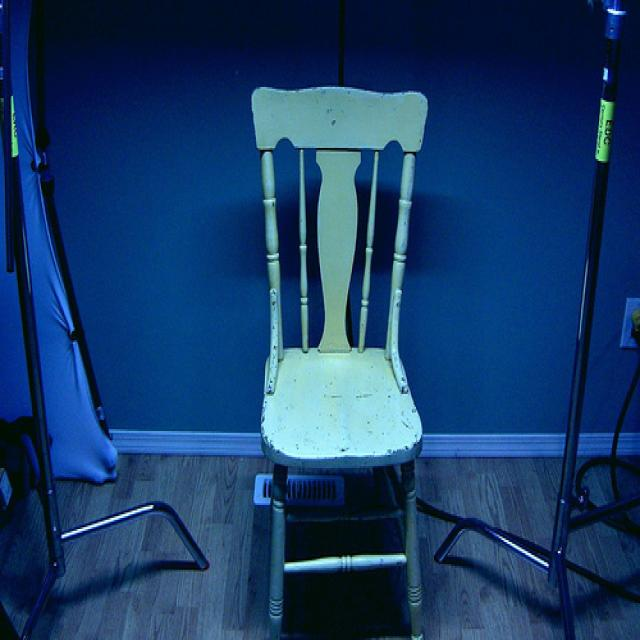chair: (252, 83, 425, 640)
